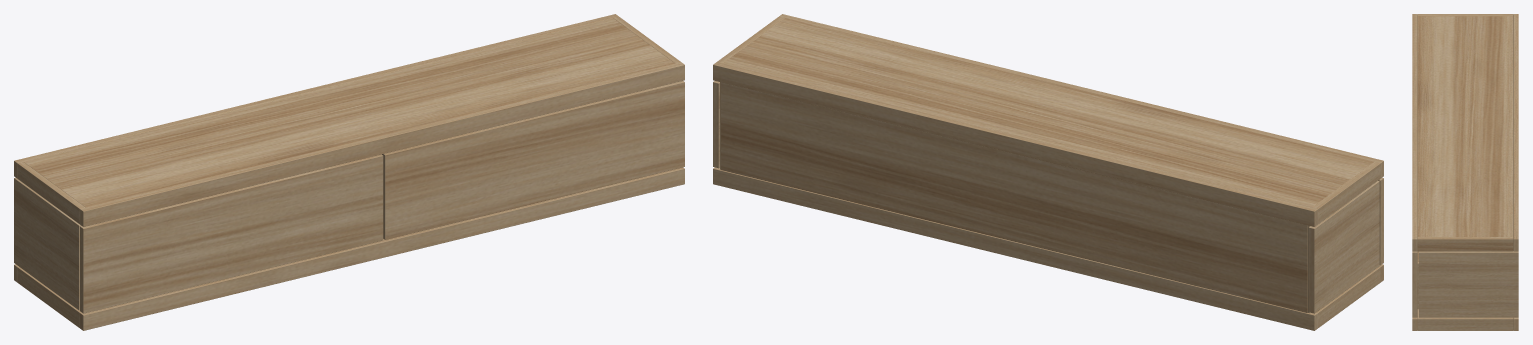
Rendered from Pakky TV Stand.glb.
The picture shows the model from 3 angles, left to right: view 1: azimuth 30°, elevation 25°; view 2: azimuth 150°, elevation 25°; view 3: azimuth 270°, elevation 25°; orthographic projection. The views are drawn at different scales.
Visible parts, largest first — view 1: pCube7, pCube20, pCube19, pCube5, pCube6, pCube17, pCube1, pCube14, pCube13; view 2: pCube24, pCube7, pCube1, pCube2, pCube17, pCube5, pCube14, pCube13, pCube18; view 3: pCube7, pCube18, pCube11, pCube1, pCube5, pCube12, pCube19, pCube14, pCube26.
Part boxes in pixels (x1,y1,x2,y2): pCube7: [24, 18, 675, 207]; pCube20: [80, 154, 383, 313]; pCube19: [382, 81, 684, 239]; pCube5: [80, 62, 684, 226]; pCube6: [80, 167, 684, 330]; pCube17: [14, 177, 81, 310]; pCube1: [14, 14, 618, 178]; pCube14: [17, 162, 85, 224]; pCube13: [17, 267, 81, 327]; pCube24: [721, 82, 1307, 312]; pCube7: [722, 18, 1373, 207]; pCube1: [713, 62, 1317, 226]; pCube2: [713, 167, 1317, 330]; pCube17: [1308, 181, 1379, 313]; pCube5: [779, 14, 1383, 178]; pCube14: [1312, 162, 1380, 224]; pCube13: [1316, 267, 1380, 327]; pCube18: [713, 81, 719, 168]; pCube7: [1417, 16, 1513, 236]; pCube18: [1419, 251, 1518, 317]; pCube11: [1417, 237, 1513, 251]; pCube1: [1513, 14, 1518, 251]; pCube5: [1412, 14, 1417, 251]; pCube12: [1417, 317, 1513, 330]; pCube19: [1412, 251, 1417, 317]; pCube14: [1417, 14, 1513, 16]; pCube26: [1417, 262, 1418, 309].
Size of the model in its own units: 2.04 by 0.4088 by 0.4088.
1 material, 1 textured.
